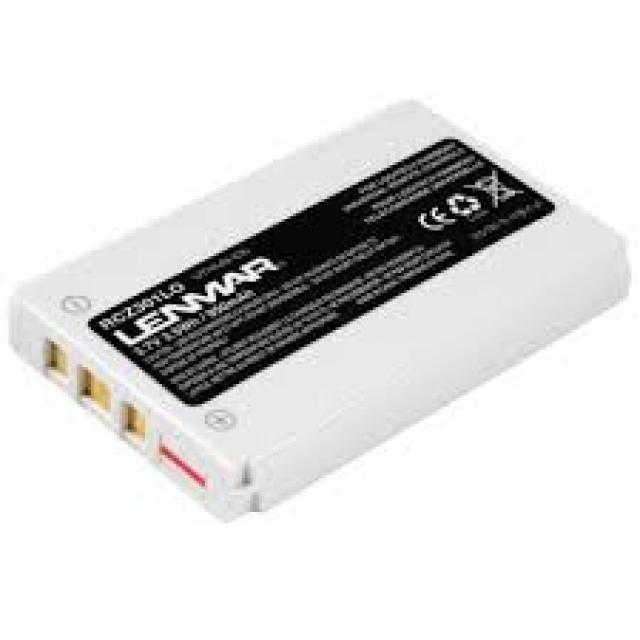non-organic waste: (12, 98, 626, 518)
